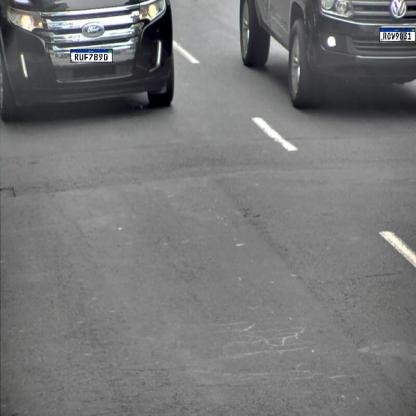PlacaM: (70, 50, 113, 62), (380, 28, 416, 42)
